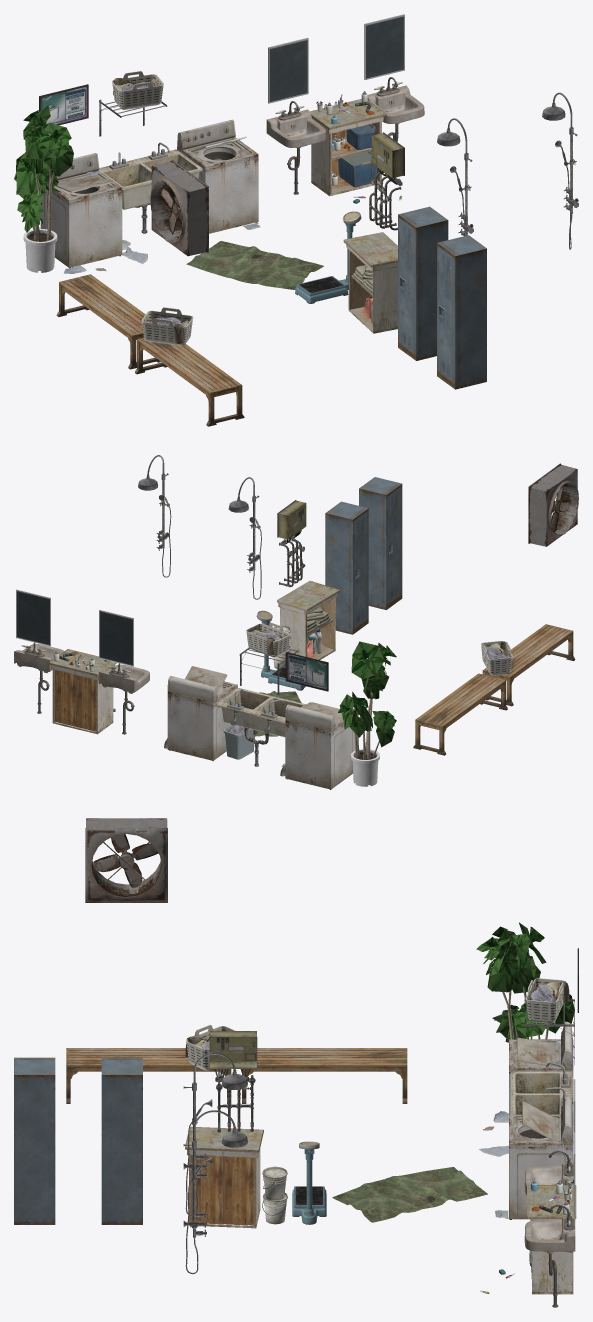
Rendered from sm301_01_402room_00.fbx.
3 renders of one model, top to bottom at view 1: azimuth 30°, elevation 25°; view 2: azimuth 150°, elevation 25°; view 3: azimuth 270°, elevation 25°, orthographic. The views are drawn at different scales.
Parts seen in each view (by area): view 1: sm39035WashingMachineSet00ms_1_Group_0_Sub_7__sm31_029__3c15, sm30051Locker01A00ms_1_Group_0_Sub_1__sm30_051_Locker01A_A_M, sm30105KitchenStorage01B00ms_1_Group_0_Sub_1__sm30_105__bd67, sm30079Bench01A00ms_1_Group_0_Sub_1__sm30_079_Bench01A_A_Mat, sm30211Mirror01A00ms_1_Group_0_Sub_1__sm30_211_Mirror01A_A_M, sm30051Locker01A00ms_1_Group_1_Sub_1__sm30_051_Locker01A_A_M, sm10002IndoorPlant02A00ms_1_Group_2_Sub_1__sm10_002_Ind_ca31, sm22024Ventilator01A00ms_1_Group_0_Sub_1__sm22_024_Vent_86d2, sm30089WashStand01A00ms_1_Group_0_Sub_1__sm30_089_WashS_cce8, sm30081ShowerMat01A00ms_1_Group_0_Sub_1__sm30_081_Showe_e411, sm30084BasketWashing01A00ms_1_Group_0_Sub_1__sm30_084_B_1470, sm39035WashingMachineSet00ms_1_Group_0_Sub_6__sm30_082__8534 (+11 smaller); view 2: sm39035WashingMachineSet00ms_1_Group_0_Sub_7__sm31_029__3c15, sm30105KitchenStorage01B00ms_1_Group_0_Sub_1__sm30_105__bd67, sm30051Locker01A00ms_1_Group_0_Sub_1__sm30_051_Locker01A_A_M, sm30079Bench01A00ms_1_Group_0_Sub_1__sm30_079_Bench01A_A_Mat, sm30211Mirror01A00ms_1_Group_0_Sub_1__sm30_211_Mirror01A_A_M, sm30051Locker01A00ms_1_Group_1_Sub_1__sm30_051_Locker01A_A_M, sm10002IndoorPlant02A00ms_1_Group_2_Sub_1__sm10_002_Ind_ca31, sm22024Ventilator01A00ms_1_Group_0_Sub_1__sm22_024_Vent_86d2, sm39035WashingMachineSet00ms_1_Group_0_Sub_6__sm30_082__8534, sm30089WashStand01A00ms_1_Group_0_Sub_1__sm30_089_WashS_cce8, sm30084BasketWashing01A00ms_1_Group_0_Sub_1__sm30_084_B_1470, sm31030ShowerBath01A00ms_1_Group_0_Sub_1__sm31_030_Show_cc94 (+8 smaller); view 3: sm30051Locker01A00ms_1_Group_0_Sub_1__sm30_051_Locker01A_A_M, sm30105KitchenStorage01B00ms_1_Group_0_Sub_1__sm30_105__bd67, sm30079Bench01A00ms_1_Group_0_Sub_1__sm30_079_Bench01A_A_Mat, sm39035WashingMachineSet00ms_1_Group_0_Sub_7__sm31_029__3c15, sm22024Ventilator01A00ms_1_Group_0_Sub_1__sm22_024_Vent_86d2, sm30081ShowerMat01A00ms_1_Group_0_Sub_1__sm30_081_Showe_e411, sm10002IndoorPlant02A00ms_1_Group_2_Sub_1__sm10_002_Ind_ca31, sm30089WashStand01A00ms_1_Group_0_Sub_1__sm30_089_WashS_cce8, sm31030ShowerBath01A00ms_1_Group_0_Sub_1__sm31_030_Show_cc94, sm30084BasketWashing01A00ms_1_Group_0_Sub_1__sm30_084_B_1470, sm39035WashingMachineSet00ms_1_Group_0_Sub_6__sm30_082__8534, sm22018Switchboard09A00ms_1_Group_0_Sub_1__sm22_018_Shi_3ded (+6 smaller).
Boxes of the visible parts, box(x1,y1,x2,y2) form: sm39035WashingMachineSet00ms_1_Group_0_Sub_7__sm31_029__3c15: box(40, 119, 258, 268); sm30051Locker01A00ms_1_Group_0_Sub_1__sm30_051_Locker01A_A_M: box(398, 206, 486, 389); sm30105KitchenStorage01B00ms_1_Group_0_Sub_1__sm30_105__bd67: box(310, 99, 397, 333); sm30079Bench01A00ms_1_Group_0_Sub_1__sm30_079_Bench01A_A_Mat: box(56, 274, 244, 426); sm30211Mirror01A00ms_1_Group_0_Sub_1__sm30_211_Mirror01A_A_M: box(268, 14, 404, 103); sm30051Locker01A00ms_1_Group_1_Sub_1__sm30_051_Locker01A_A_M: box(399, 218, 454, 384); sm10002IndoorPlant02A00ms_1_Group_2_Sub_1__sm10_002_Ind_ca31: box(14, 105, 73, 232); sm22024Ventilator01A00ms_1_Group_0_Sub_1__sm22_024_Vent_86d2: box(150, 159, 208, 256); sm30089WashStand01A00ms_1_Group_0_Sub_1__sm30_089_WashS_cce8: box(266, 77, 424, 194); sm30081ShowerMat01A00ms_1_Group_0_Sub_1__sm30_081_Showe_e411: box(186, 241, 323, 289); sm30084BasketWashing01A00ms_1_Group_0_Sub_1__sm30_084_B_1470: box(112, 71, 193, 345); sm39035WashingMachineSet00ms_1_Group_0_Sub_6__sm30_082__8534: box(99, 142, 202, 233); sm39035WashingMachineSet00ms_1_Group_0_Sub_7__sm31_029__3c15: box(167, 676, 355, 789); sm30105KitchenStorage01B00ms_1_Group_0_Sub_1__sm30_105__bd67: box(49, 581, 339, 734); sm30051Locker01A00ms_1_Group_0_Sub_1__sm30_051_Locker01A_A_M: box(325, 477, 402, 634); sm30079Bench01A00ms_1_Group_0_Sub_1__sm30_079_Bench01A_A_Mat: box(413, 624, 575, 755); sm30211Mirror01A00ms_1_Group_0_Sub_1__sm30_211_Mirror01A_A_M: box(16, 589, 133, 666); sm30051Locker01A00ms_1_Group_1_Sub_1__sm30_051_Locker01A_A_M: box(353, 487, 401, 630); sm10002IndoorPlant02A00ms_1_Group_2_Sub_1__sm10_002_Ind_ca31: box(338, 641, 396, 747); sm22024Ventilator01A00ms_1_Group_0_Sub_1__sm22_024_Vent_86d2: box(528, 463, 578, 546); sm39035WashingMachineSet00ms_1_Group_0_Sub_6__sm30_082__8534: box(214, 688, 306, 766); sm30089WashStand01A00ms_1_Group_0_Sub_1__sm30_089_WashS_cce8: box(14, 642, 149, 734); sm30084BasketWashing01A00ms_1_Group_0_Sub_1__sm30_084_B_1470: box(246, 622, 512, 675); sm31030ShowerBath01A00ms_1_Group_0_Sub_1__sm31_030_Show_cc94: box(138, 455, 261, 599); sm30051Locker01A00ms_1_Group_0_Sub_1__sm30_051_Locker01A_A_M: box(14, 1057, 142, 1224); sm30105KitchenStorage01B00ms_1_Group_0_Sub_1__sm30_105__bd67: box(185, 1126, 576, 1294); sm30079Bench01A00ms_1_Group_0_Sub_1__sm30_079_Bench01A_A_Mat: box(66, 1048, 407, 1103); sm39035WashingMachineSet00ms_1_Group_0_Sub_7__sm31_029__3c15: box(509, 1021, 573, 1219); sm22024Ventilator01A00ms_1_Group_0_Sub_1__sm22_024_Vent_86d2: box(85, 818, 167, 902); sm30081ShowerMat01A00ms_1_Group_0_Sub_1__sm30_081_Showe_e411: box(332, 1167, 487, 1222); sm10002IndoorPlant02A00ms_1_Group_2_Sub_1__sm10_002_Ind_ca31: box(476, 922, 574, 1042); sm30089WashStand01A00ms_1_Group_0_Sub_1__sm30_089_WashS_cce8: box(524, 1150, 575, 1307); sm31030ShowerBath01A00ms_1_Group_0_Sub_1__sm31_030_Show_cc94: box(183, 1052, 247, 1274); sm30084BasketWashing01A00ms_1_Group_0_Sub_1__sm30_084_B_1470: box(185, 978, 569, 1070); sm39035WashingMachineSet00ms_1_Group_0_Sub_6__sm30_082__8534: box(511, 1062, 573, 1114); sm22018Switchboard09A00ms_1_Group_0_Sub_1__sm22_018_Shi_3ded: box(209, 1031, 257, 1068).
Bounding box in the file's own units: 7.01 × 3.53 × 6.84.
